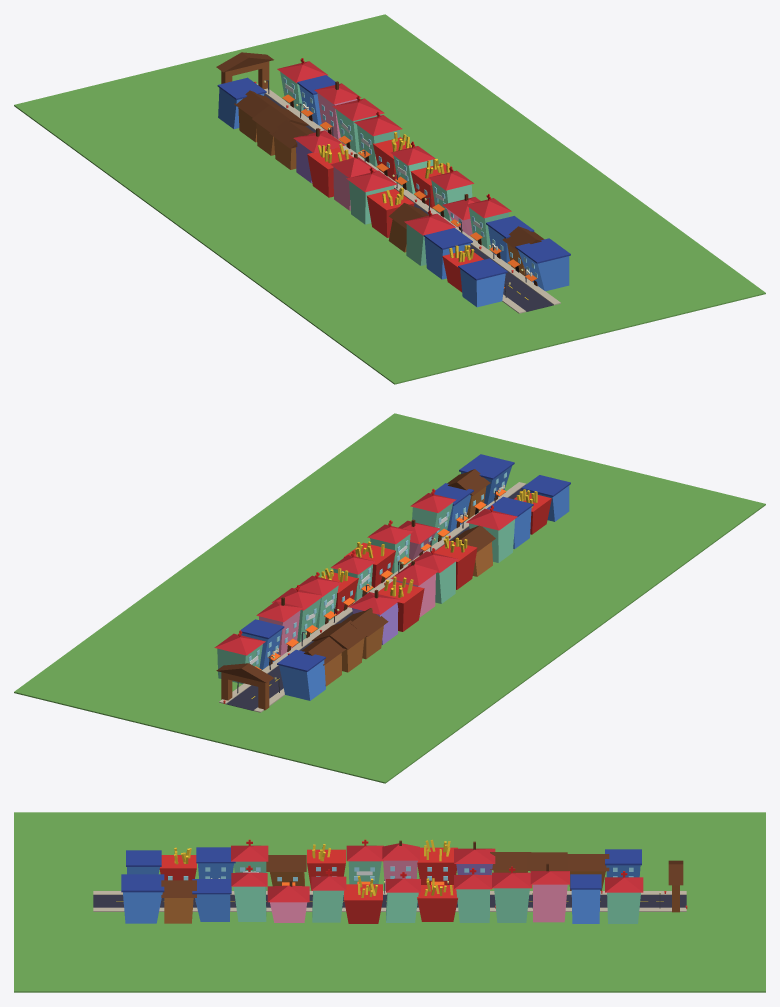
The model's file is papa_calle.obj.
3 renders of one model, top to bottom at view 1: azimuth 30°, elevation 25°; view 2: azimuth 150°, elevation 25°; view 3: azimuth 270°, elevation 25°, orthographic.
Parts seen in each view (by area): view 1: suelo, pet_der_00, pet_izq_00, banquetas, vet_izq_06, pet_izq_02, vet_der_10, fries_izq_08, vet_der_09, vet_izq_03, vet_der_05, calzada (+20 smaller); view 2: suelo, pet_izq_13, banquetas, vet_izq_03, portal_perrera, vet_der_03, vet_der_13, fries_izq_08, perrera_izq_11, pet_der_00, casa_der_11, vet_izq_06 (+20 smaller); view 3: suelo, pet_der_00, casa_der_11, vet_der_10, vet_der_09, vet_der_13, vet_der_03, calzada, vet_der_05, fries_der_06, pet_der_02, pet_der_12 (+20 smaller).
Boxes of the visible parts, x1=… form: suelo: x1=14, y1=14, x2=765, y2=384; pet_der_00: x1=515, y1=238, x2=570, y2=291; pet_izq_00: x1=458, y1=258, x2=507, y2=307; banquetas: x1=219, y1=83, x2=560, y2=313; vet_izq_06: x1=346, y1=167, x2=397, y2=224; pet_izq_02: x1=423, y1=228, x2=472, y2=279; vet_der_10: x1=332, y1=95, x2=384, y2=153; fries_izq_08: x1=307, y1=143, x2=353, y2=197; vet_der_09: x1=354, y1=111, x2=402, y2=167; vet_izq_03: x1=404, y1=210, x2=455, y2=265; vet_der_05: x1=428, y1=166, x2=473, y2=221; calzada: x1=264, y1=93, x2=553, y2=311; suelo: x1=14, y1=413, x2=765, y2=783; pet_izq_13: x1=277, y1=649, x2=325, y2=700; banquetas: x1=219, y1=482, x2=525, y2=712; vet_izq_03: x1=466, y1=505, x2=517, y2=562; portal_perrera: x1=216, y1=663, x2=273, y2=710; vet_der_03: x1=410, y1=488, x2=456, y2=545; vet_der_13: x1=214, y1=630, x2=265, y2=684; fries_izq_08: x1=378, y1=576, x2=424, y2=631; perrera_izq_11: x1=312, y1=620, x2=368, y2=672; pet_der_00: x1=459, y1=454, x2=514, y2=505; casa_der_11: x1=256, y1=597, x2=302, y2=656; vet_izq_06: x1=408, y1=548, x2=458, y2=603; suelo: x1=14, y1=812, x2=765, y2=992; pet_der_00: x1=121, y1=874, x2=164, y2=923; casa_der_11: x1=530, y1=863, x2=569, y2=922; vet_der_10: x1=492, y1=866, x2=532, y2=922; vet_der_09: x1=454, y1=868, x2=492, y2=922; vet_der_13: x1=605, y1=871, x2=643, y2=923; vet_der_03: x1=231, y1=865, x2=267, y2=921; calzada: x1=93, y1=895, x2=686, y2=907; vet_der_05: x1=311, y1=869, x2=346, y2=922; fries_der_06: x1=344, y1=876, x2=382, y2=923; pet_der_02: x1=192, y1=879, x2=231, y2=921; pet_der_12: x1=570, y1=874, x2=601, y2=923.
Bounding box in the file's own units: 160 × 21.84 × 284.
